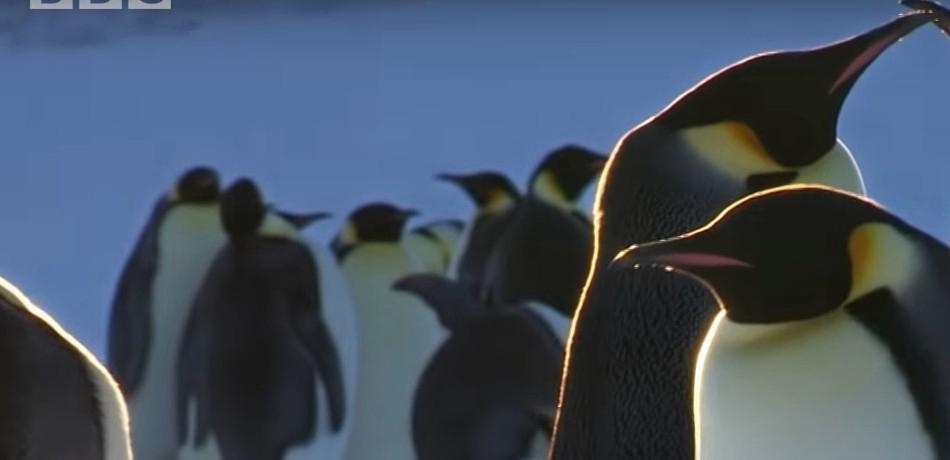Emperor Penguin: (605, 180, 950, 460), (106, 164, 256, 460), (893, 0, 950, 460), (330, 188, 426, 460), (514, 130, 620, 292), (430, 156, 512, 258)
